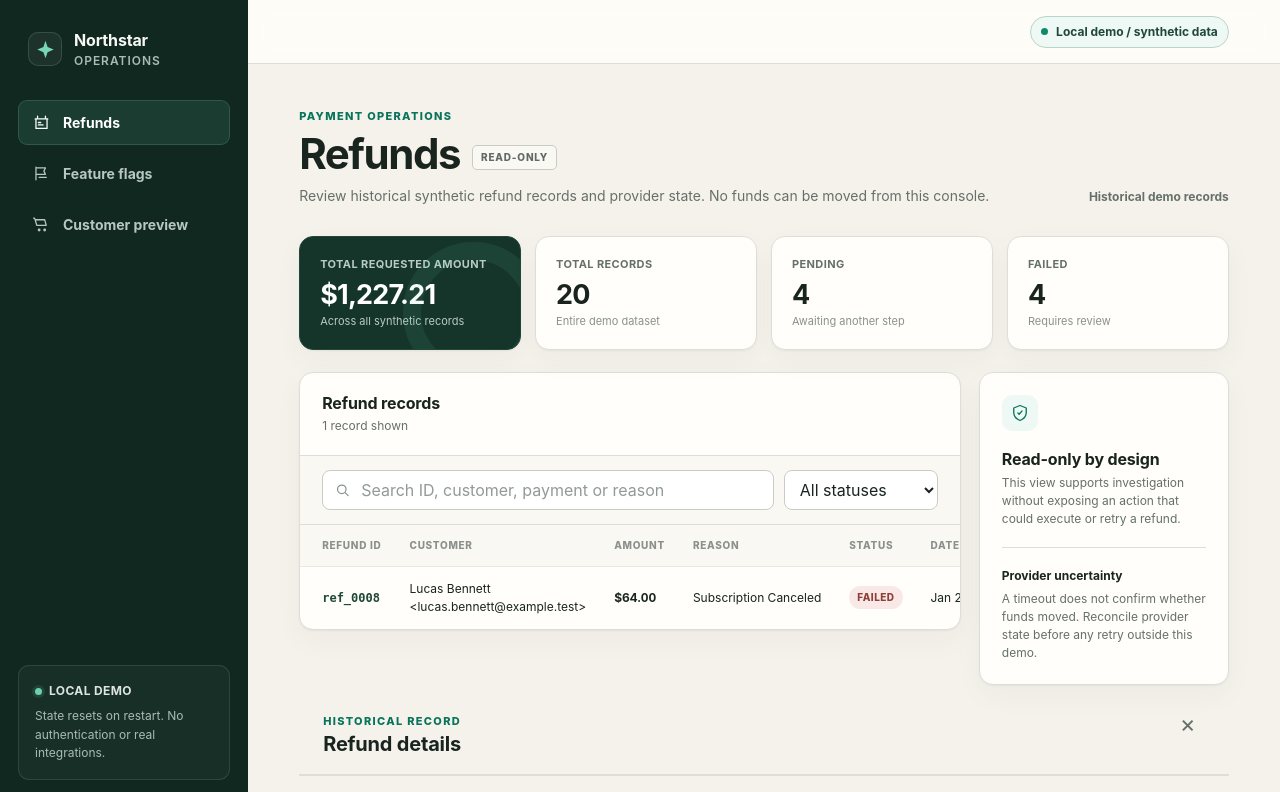
Test: refund operations › does not let a deferred old filter response replace newer results
This screenshot has width=1280, height=792.
Expected: the text "ref_0008" is shown, [300, 566, 396, 629]
Type "old" into the search field named "Search refunds" at [548, 490], box [322, 470, 774, 510]
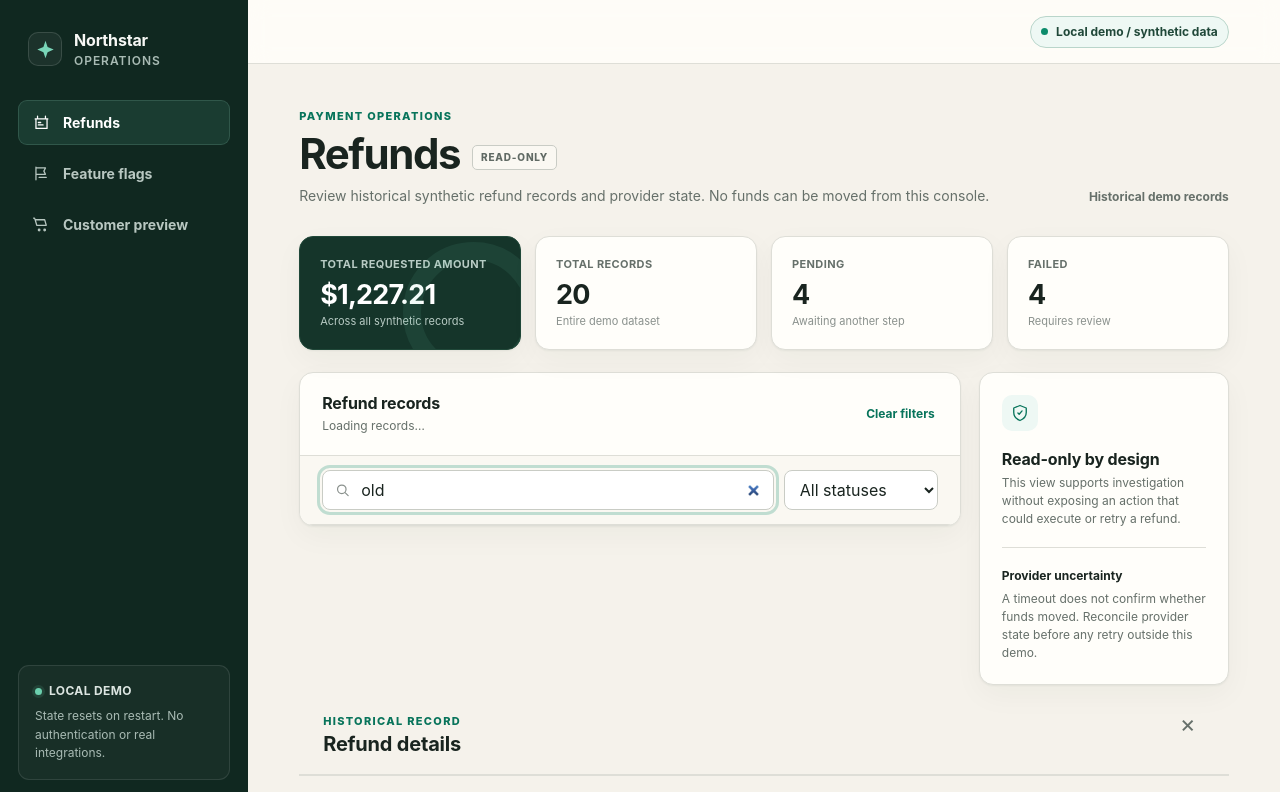
Replace the text in the search field named "Search refunds" with "new" at [548, 490], box [322, 470, 774, 510]
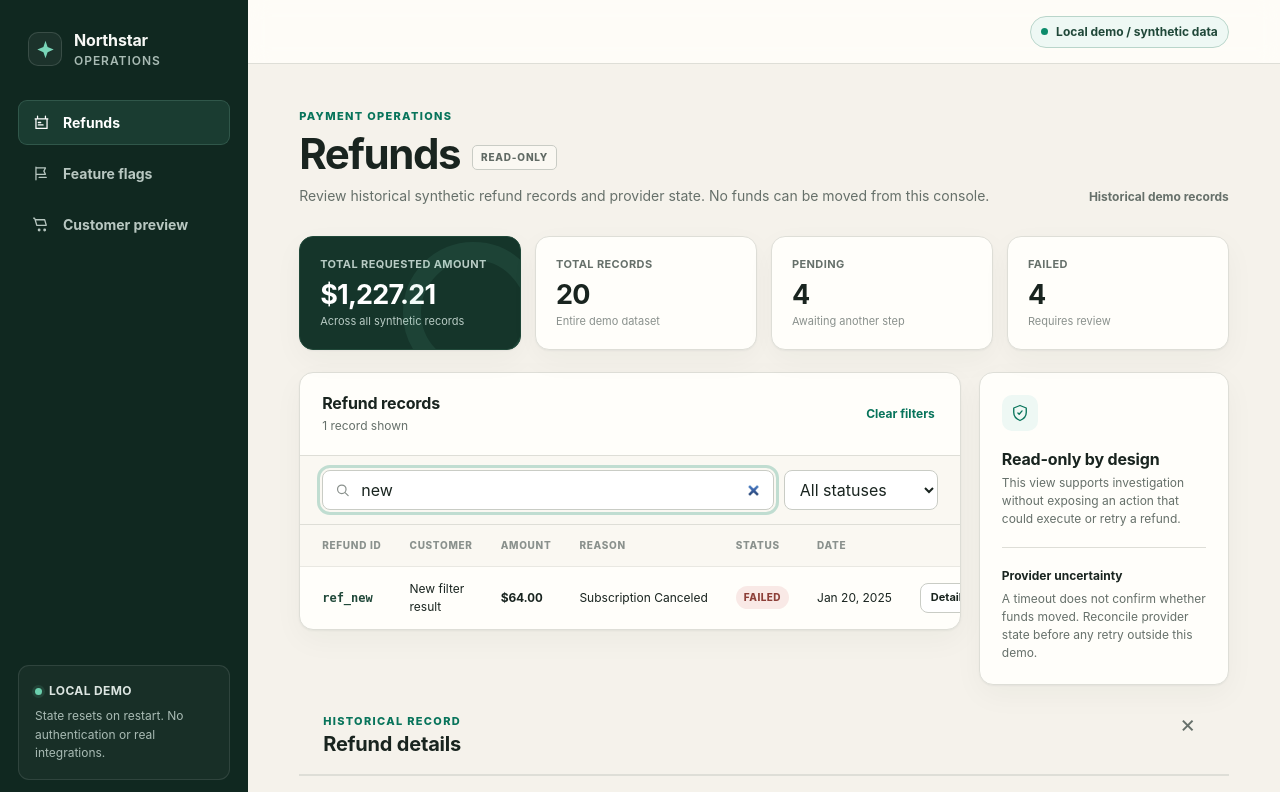
Expected: the text "ref_new" is shown, [300, 566, 396, 629]
